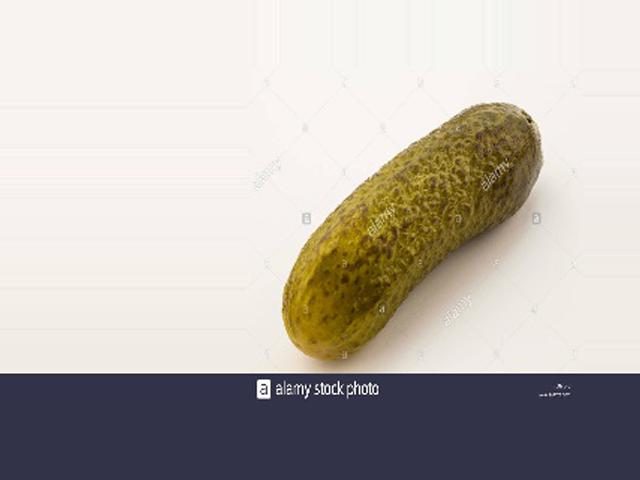cucumber: (281, 104, 542, 359)
